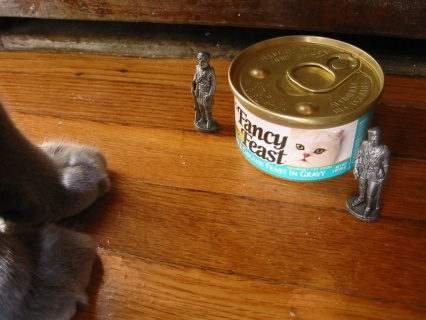Cat: (0, 105, 112, 319), (294, 127, 347, 166)
